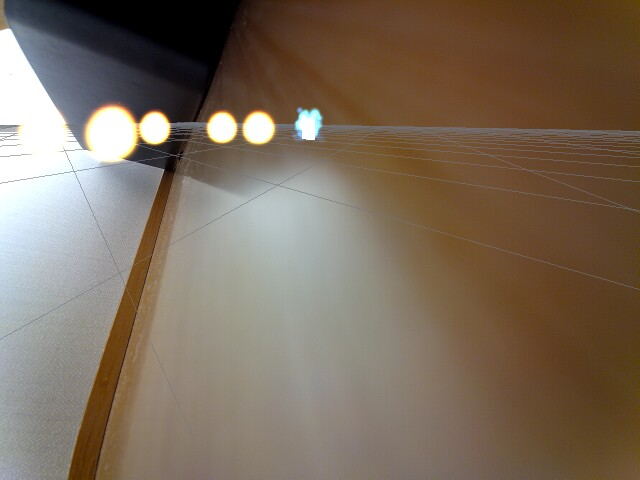firebig: (81, 95, 138, 164)
